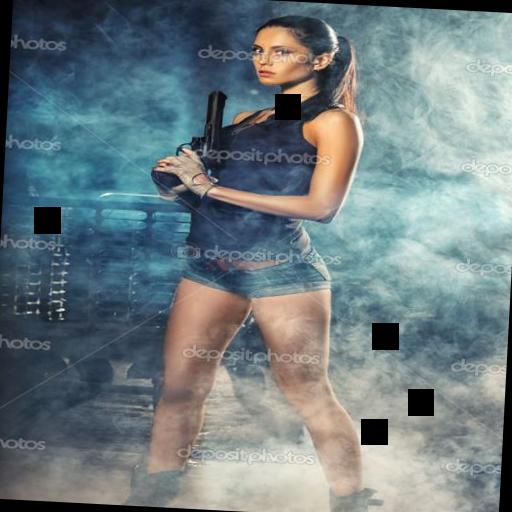Handgun: (135, 76, 237, 204)
